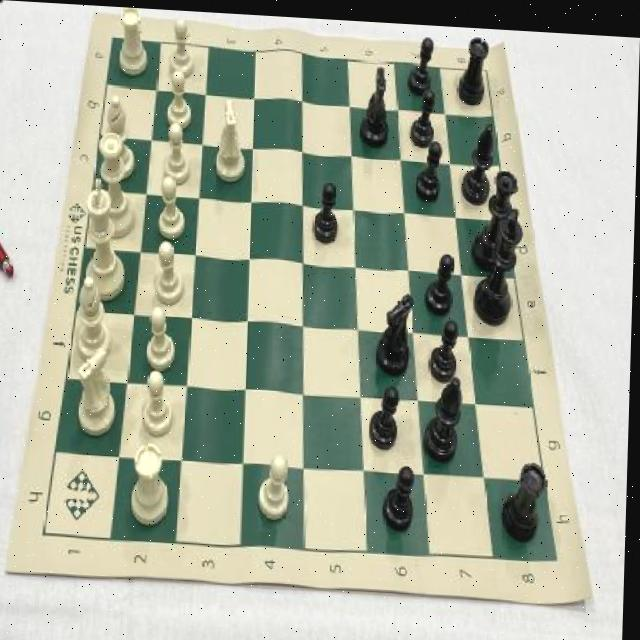bishop: (425, 374, 466, 455), (463, 116, 495, 201)
black-bishop: (475, 199, 526, 322)
black-king: (375, 283, 416, 373), (359, 60, 391, 145)
black-knight: (370, 376, 404, 446), (384, 460, 418, 526), (430, 311, 463, 378), (312, 175, 341, 241), (426, 245, 456, 308), (408, 27, 435, 91), (416, 137, 444, 197), (409, 84, 436, 143)
black-pawn: (474, 161, 522, 267)
black-queen: (504, 449, 552, 538), (457, 28, 491, 101)
black-rook: (78, 274, 115, 361), (104, 93, 138, 178)
white-bishop: (82, 173, 128, 299)
white-king: (76, 338, 121, 437), (211, 90, 251, 187)
white-knight: (142, 304, 181, 375), (140, 368, 177, 436), (155, 174, 193, 238), (152, 238, 188, 303), (261, 450, 295, 518), (159, 120, 193, 181), (163, 68, 198, 127), (169, 15, 195, 77)
white-pawn: (96, 129, 137, 237)
white-queen: (131, 437, 172, 524), (115, 6, 149, 75)
